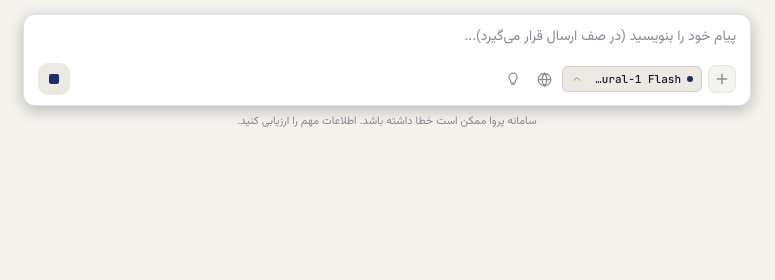
Test: Message Queue Feature (قابلیت پیام در صف) › 1. User can type and submit message while assistant is streaming (message added to queue)
Expected: the button with test id "composer-stop-btn" is shown, [38,63,70,95]
User types next prompt into textarea
Type "این پیام دوم است که باید در صف قرار گیرد" into the text box with placeholder "پیام خود را بنویسید (در صف ارسال قرار می‌گیرد)..." at (387, 39), box [38,27,736,51]
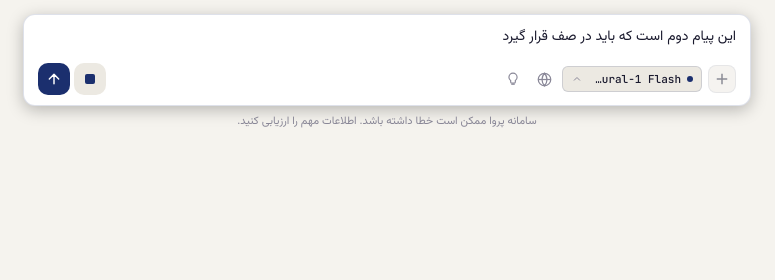
Expected: the button with test id "composer-queue-btn" is shown
Click the queue button (or hit Enter)
Click the button with test id "composer-queue-btn" at (54, 79), box [38,63,70,95]
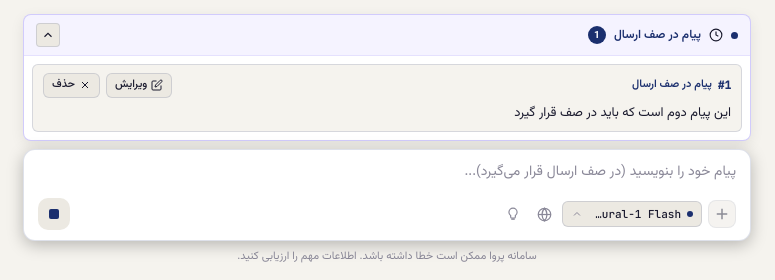
Expected: the text box with placeholder "پیام خود را بنویسید (در صف ارسال قرار می‌گیرد)..." is empty, [38,162,736,186]
Expected: the text "این پیام دوم است که باید در صف قرار گیرد" is shown, [514,102,731,122]
Expected: the element with test id "queued-messages-container" is shown, [23,14,751,141]
